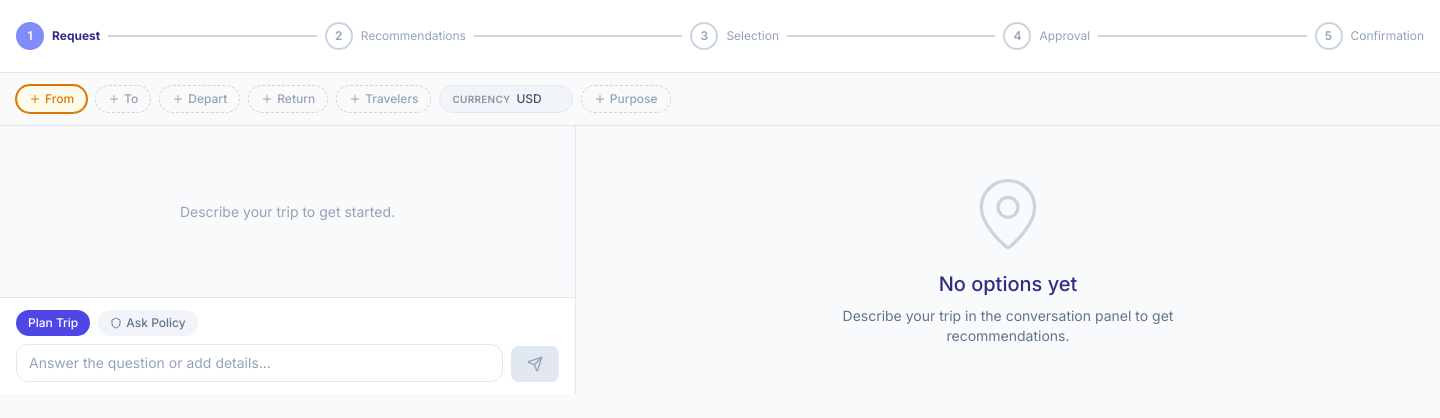
Test: C7-07 PlannerScreen Ask Policy › renders a clarify question
The image size is (1440, 418).
Step 1. Click the button "Ask Policy" → (148, 323), box x1=98 y1=310 x2=198 y2=336
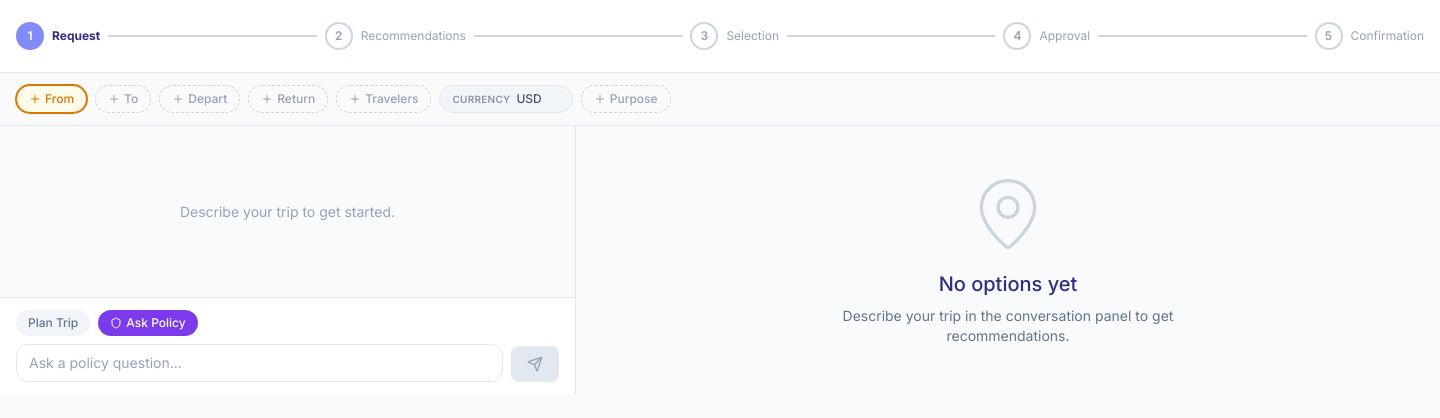
Step 2. Type "What is the per diem?" into the text box → (260, 363), box x1=16 y1=344 x2=503 y2=382
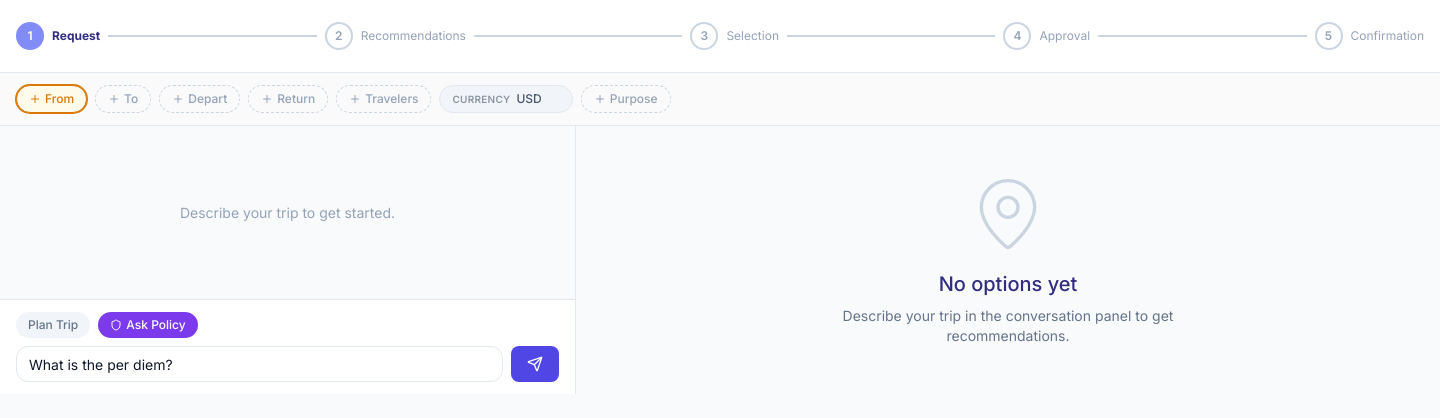
Step 3. Press Enter in the text box, box x1=16 y1=346 x2=503 y2=382
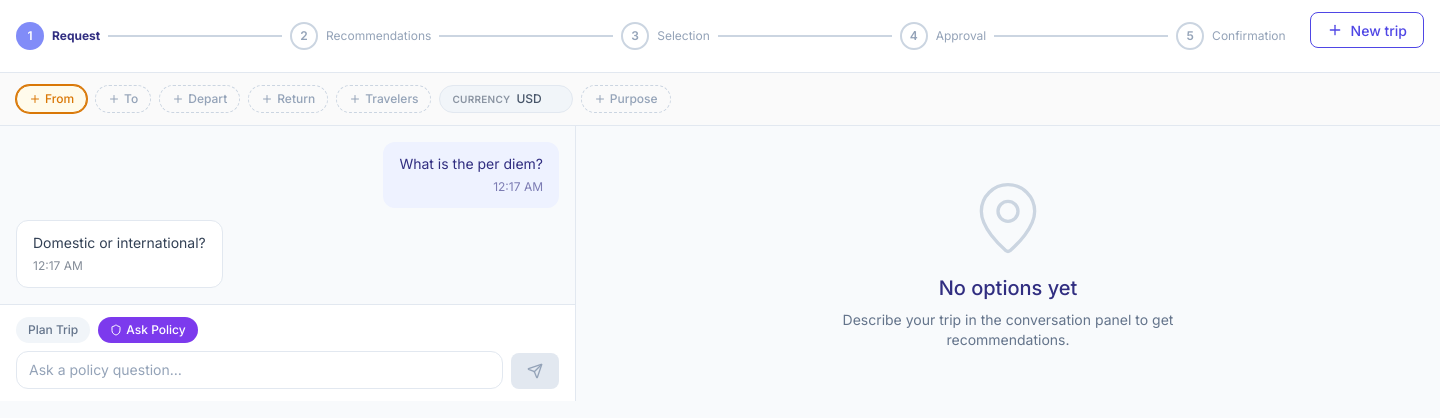
Expected: the text "Domestic or international?" is shown, x1=33 y1=233 x2=206 y2=253
